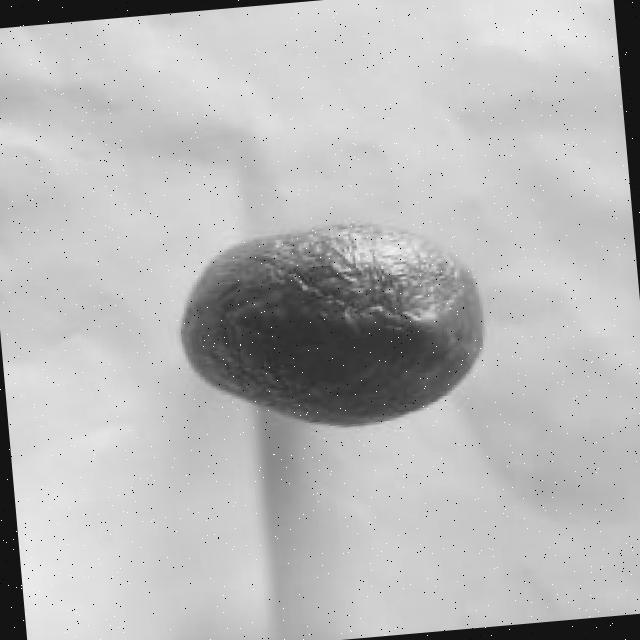overripe: (169, 208, 492, 442)
